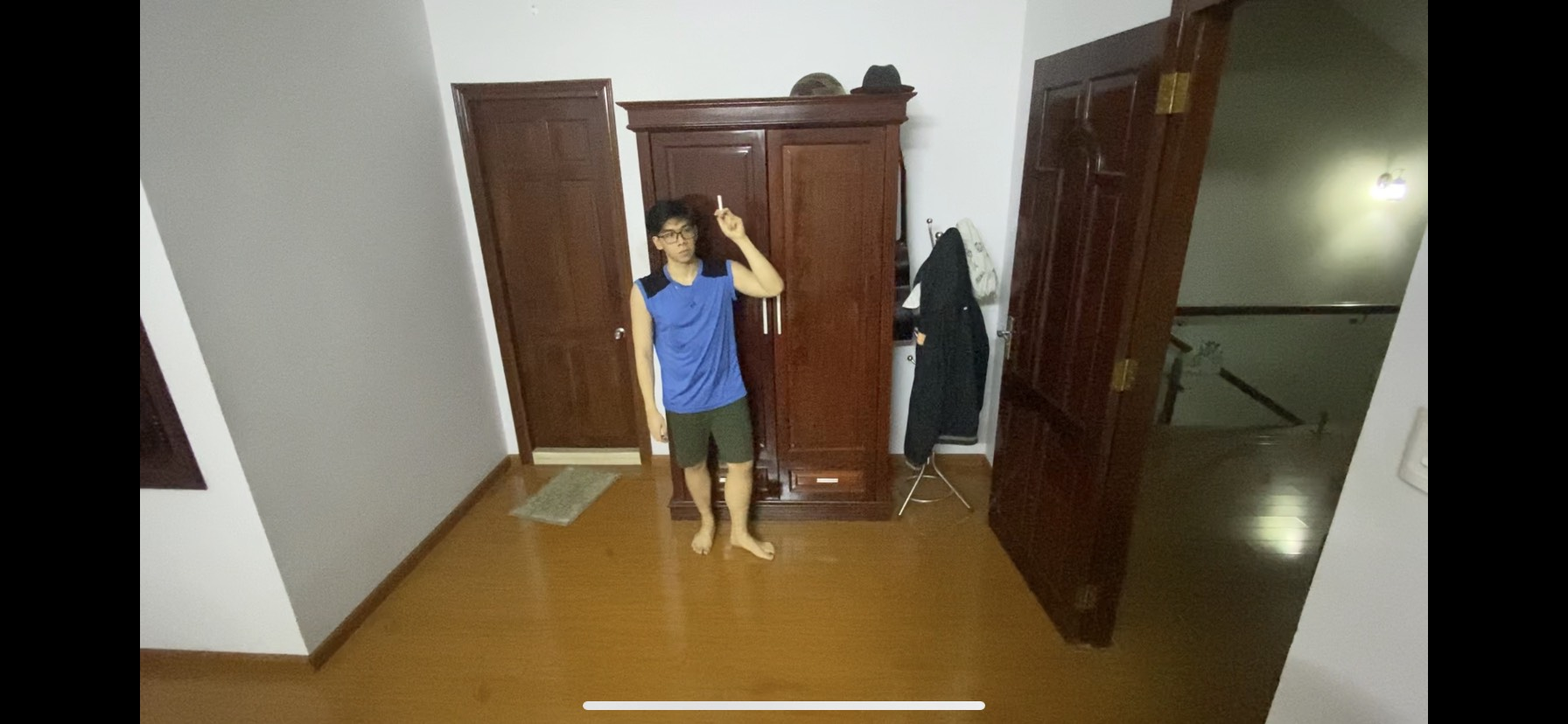cigarette: (713, 192, 724, 210)
person: (619, 191, 793, 570)
